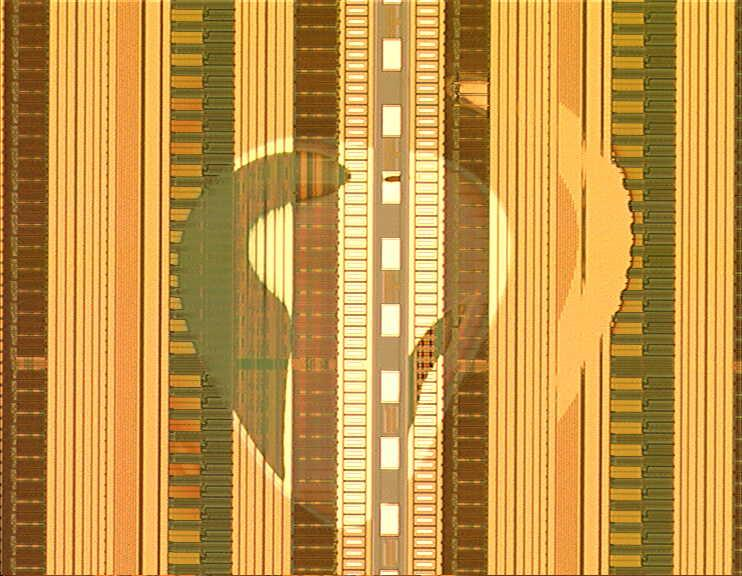BLOCK ETCH: (172, 73, 638, 532)
